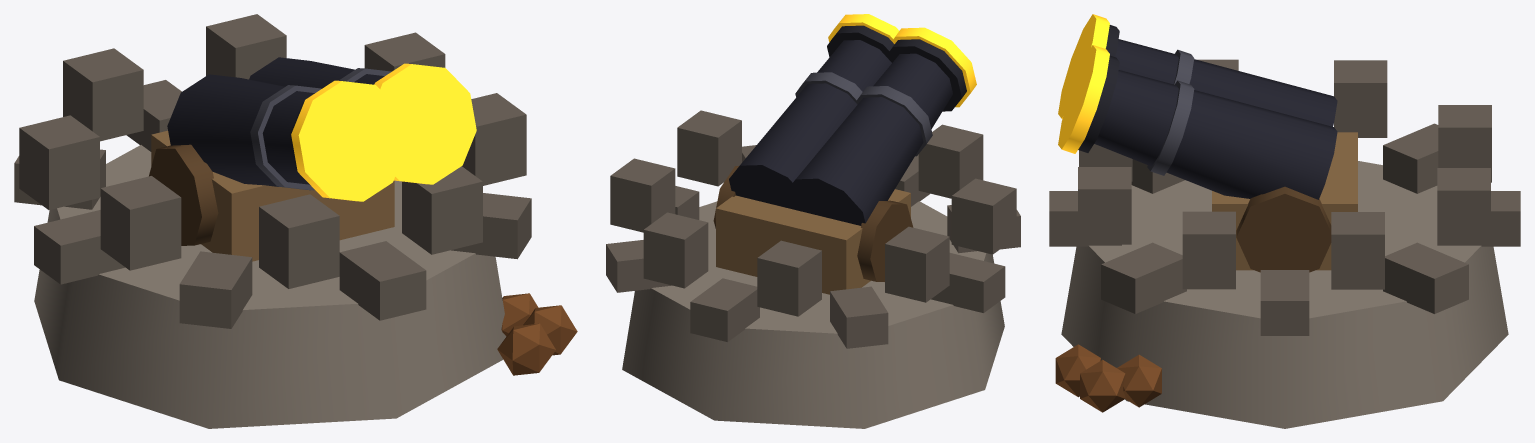
Rendered from goblin-level3.glb.
The picture shows the model from 3 angles, left to right: view 1: azimuth 30°, elevation 25°; view 2: azimuth 150°, elevation 25°; view 3: azimuth 270°, elevation 25°; orthographic projection. The views are drawn at different scales.
Parts seen in each view (by area): view 1: object 1, turret, object 17, object 18, object 16, object 19, object 15, object 4, object 5, object 14, object 6, object 20 (+7 smaller); view 2: turret, object 1, object 20, object 17, object 18, object 19, object 14, object 21, object 16, object 8, object 7, object 6 (+4 smaller); view 3: object 1, turret, object 9, object 3, object 14, object 15, object 20, object 21, object 18, object 19, object 2, object 7 (+7 smaller).
Boxes of the visible parts, box(x1,y1,x2,y2) form: object 1: box(34, 145, 506, 428); turret: box(149, 57, 476, 261); object 17: box(100, 176, 181, 270); object 18: box(19, 115, 99, 209); object 16: box(259, 194, 339, 288); object 19: box(63, 48, 143, 141); object 15: box(402, 166, 482, 254); object 4: box(339, 241, 426, 320); object 5: box(179, 251, 252, 328); object 14: box(462, 93, 526, 185); object 6: box(34, 210, 125, 284); object 20: box(206, 14, 286, 79); turret: box(713, 14, 976, 294); object 1: box(622, 201, 1004, 428); object 20: box(643, 212, 708, 288); object 17: box(951, 178, 1016, 254); object 18: box(885, 226, 949, 302); object 19: box(757, 240, 821, 316); object 14: box(677, 110, 741, 186); object 21: box(610, 158, 675, 232); object 16: box(918, 124, 983, 198); object 8: box(690, 278, 759, 341); object 7: box(830, 286, 888, 348); object 6: box(931, 253, 1005, 312); object 1: box(1061, 161, 1508, 428); turret: box(1058, 14, 1357, 272); object 9: box(1383, 242, 1468, 313); object 3: box(1101, 242, 1186, 313); object 14: box(1182, 211, 1235, 289); object 15: box(1078, 167, 1131, 244); object 20: box(1437, 168, 1490, 245); object 21: box(1331, 212, 1384, 289); object 18: box(1334, 60, 1387, 137); object 19: box(1438, 105, 1491, 182); object 2: box(1260, 270, 1309, 335); object 7: box(1383, 123, 1438, 193).
Bounding box in the file's own units: 2.17 × 1.53 × 2.17.
